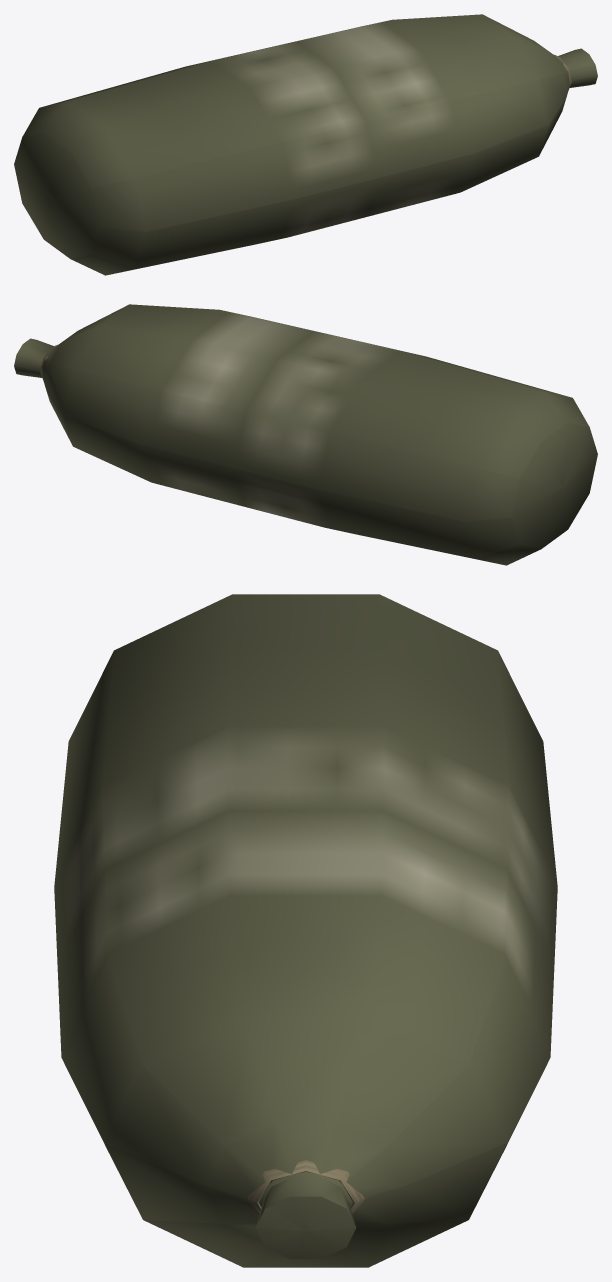
File: kitbag.glb
3 renders of one model, top to bottom at view 1: azimuth 30°, elevation 25°; view 2: azimuth 150°, elevation 25°; view 3: azimuth 270°, elevation 25°, orthographic. The views are drawn at different scales.
Visible parts, largest first — view 1: kitbag; view 2: kitbag; view 3: kitbag.
Boxes of the visible parts, x1,y1,x2,y2 form: kitbag: (14,14,597,275); kitbag: (14,304,597,565); kitbag: (54,594,557,1267).
Size of the model in its own units: 0.865 by 0.2397 by 0.35.
1 material, 1 textured.
